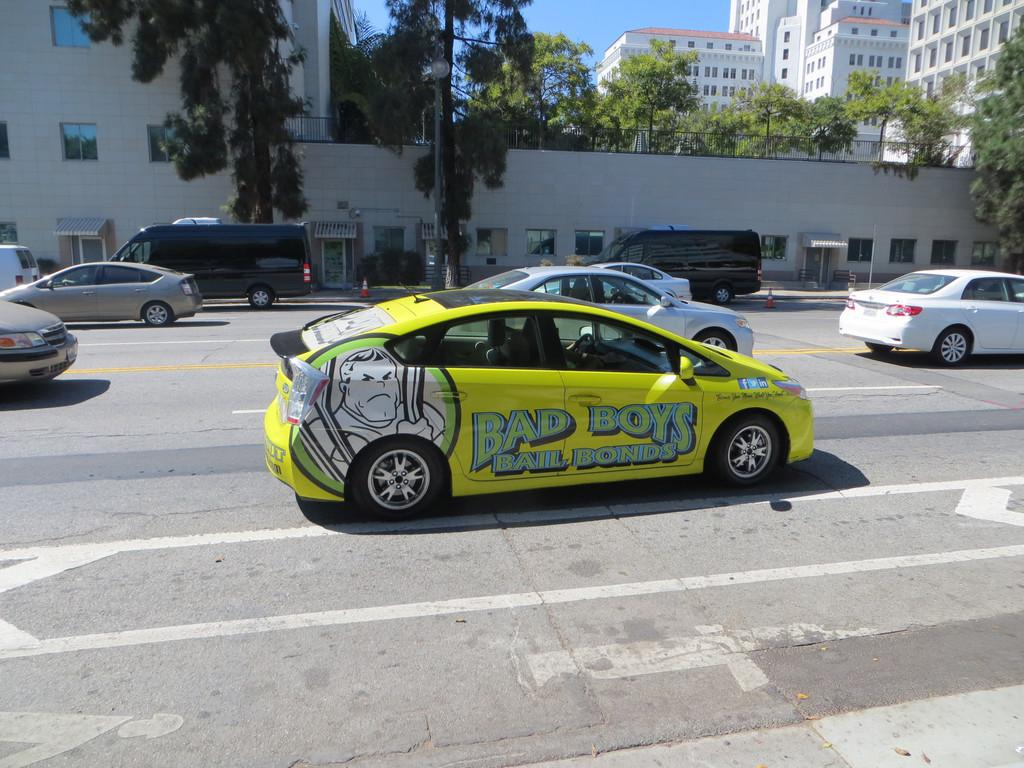taxi: (262, 288, 815, 521)
